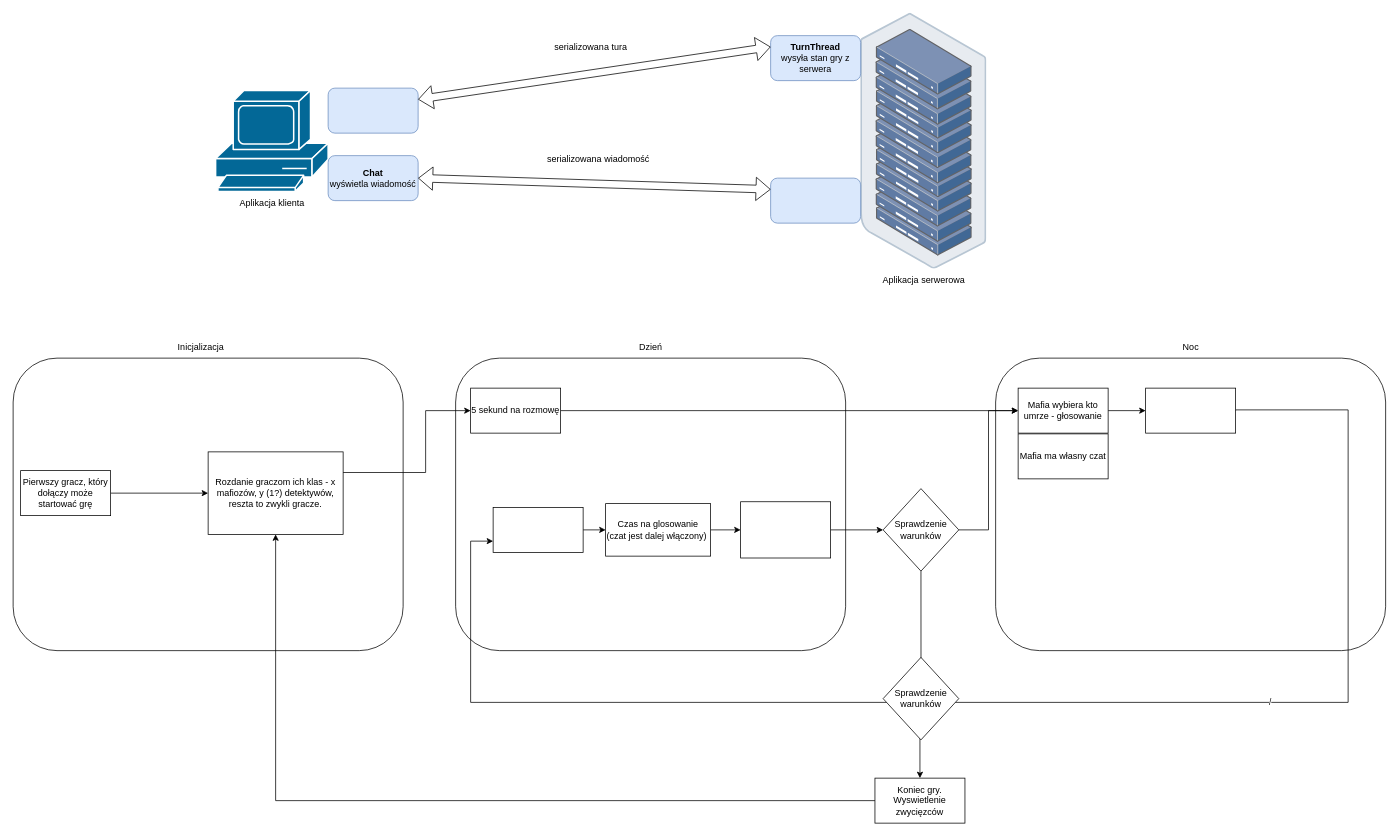
The diagram is 1399 pixels wide and 836 high, and some of its shapes have lost their labels. The shapes that lost their labels are listed below. From the top down, each one's centre as x and y in pixels, then its label:
pixel 372 110: TurnThread wysyła działanie gracza
pixel 815 200: Chat łączy wszystkie wiadomości
pixel 1190 410: Detektyw wybiera którego gracza sprawdzić (jaki gracz ma status)
pixel 537 529: Czas na rozmowę
pixel 785 529: Wyrzucenie gracza i wyświetlenie jaką miał klasę
